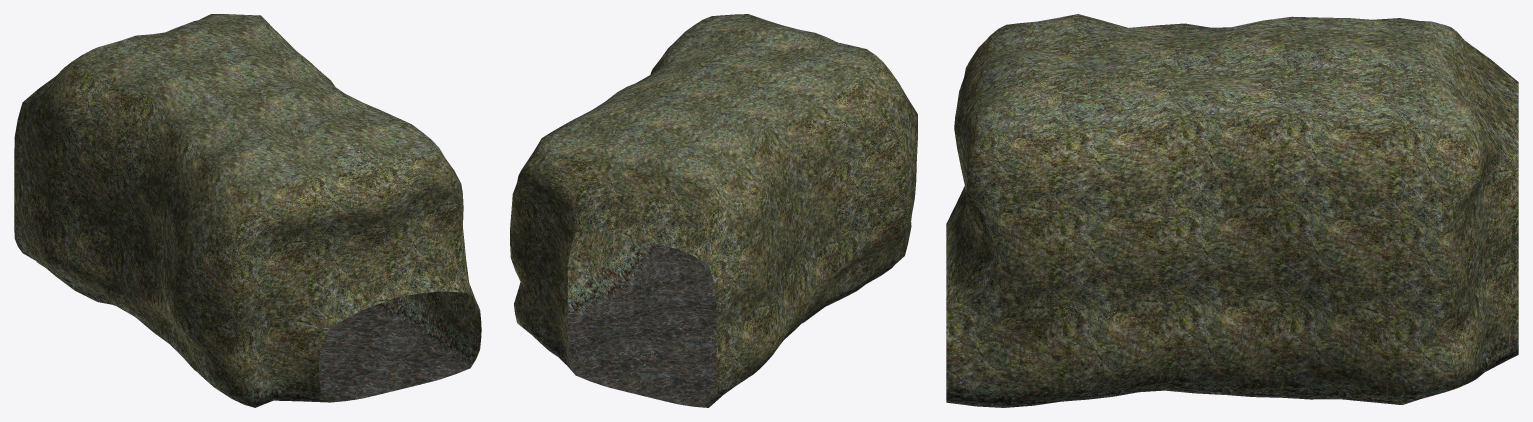
File: thm_all_cave_flatland_s03_damprock_r10_r10.fbx
3 views of the same model, side by side, from view 1: azimuth 30°, elevation 25°; view 2: azimuth 150°, elevation 25°; view 3: azimuth 270°, elevation 25° (orthographic). The views are drawn at different scales.
Visible parts, largest first — view 1: mesh_node; view 2: mesh_node; view 3: mesh_node.
Boxes of the visible parts, left/top/right/bottom form: mesh_node: left=14, top=14, right=481, bottom=407; mesh_node: left=510, top=14, right=917, bottom=407; mesh_node: left=946, top=14, right=1518, bottom=407.
Size of the model in its own units: 27.52 by 23.69 by 40.81.
